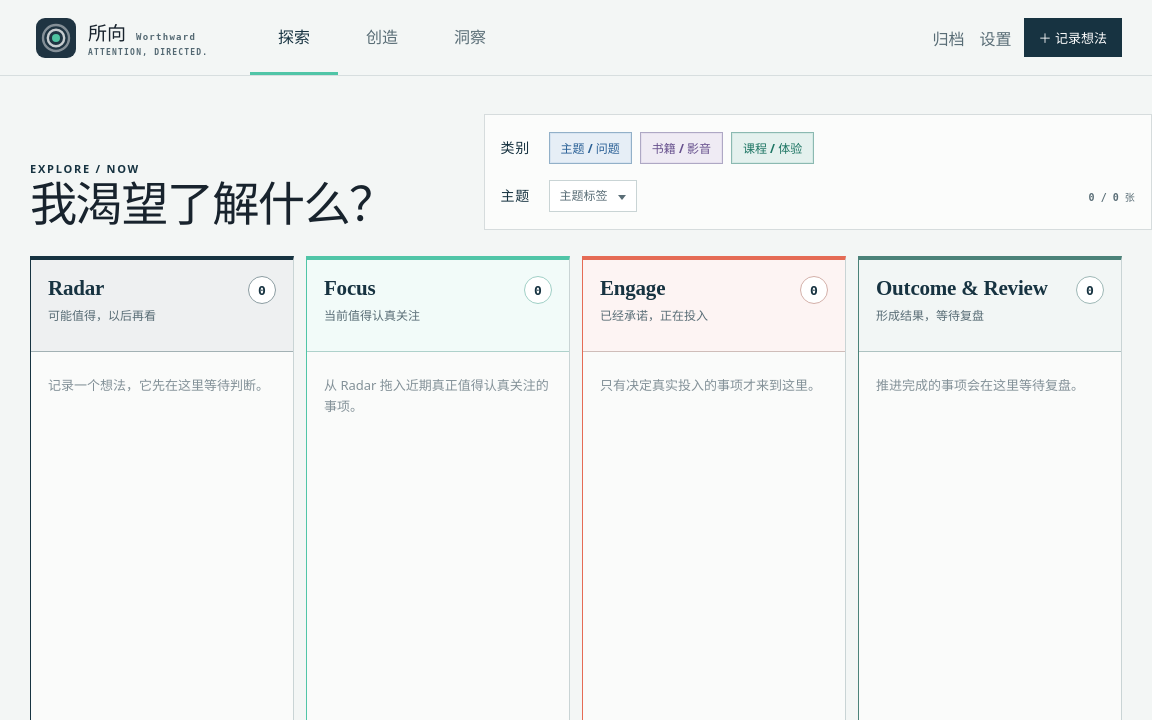
it: attention workbench interface › offers AI auto-tag in Capture and Detail topic editors
Click the button "＋ 记录想法" at (1073, 38), box [1024,18,1122,57]
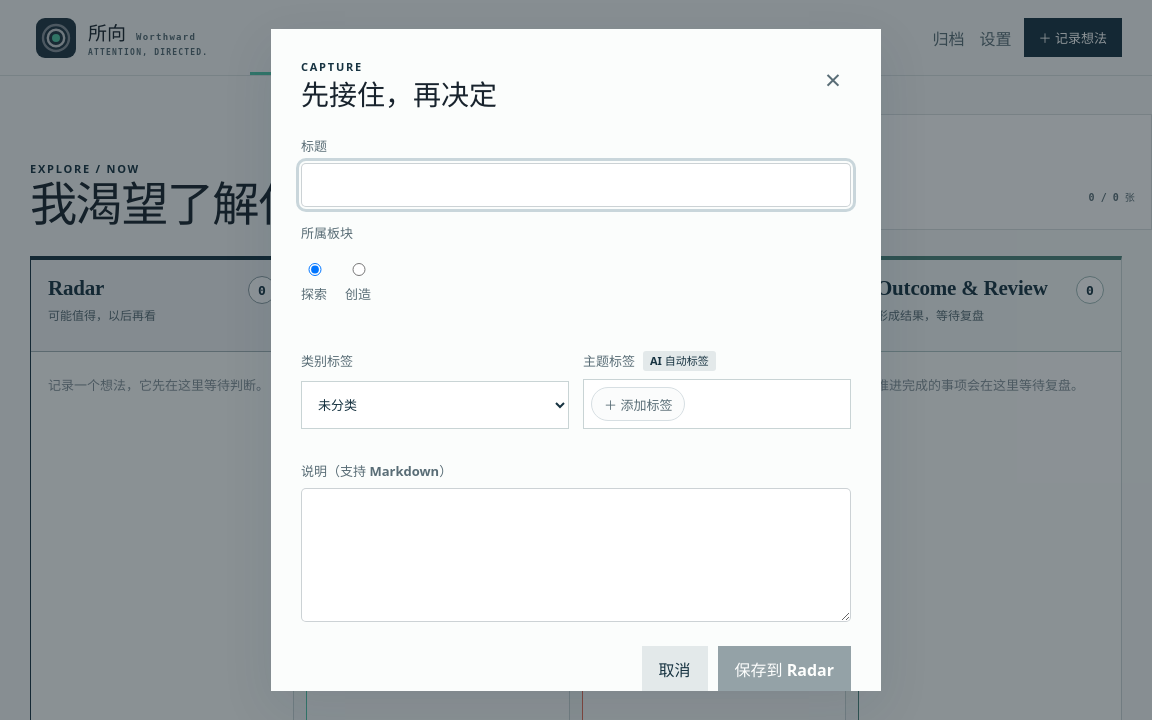
Expected: the button "AI 自动标签" is shown, [643,351,716,371]
Type "接入自动标签" into the field labelled "标题" at (576, 185), box [301,163,851,207]
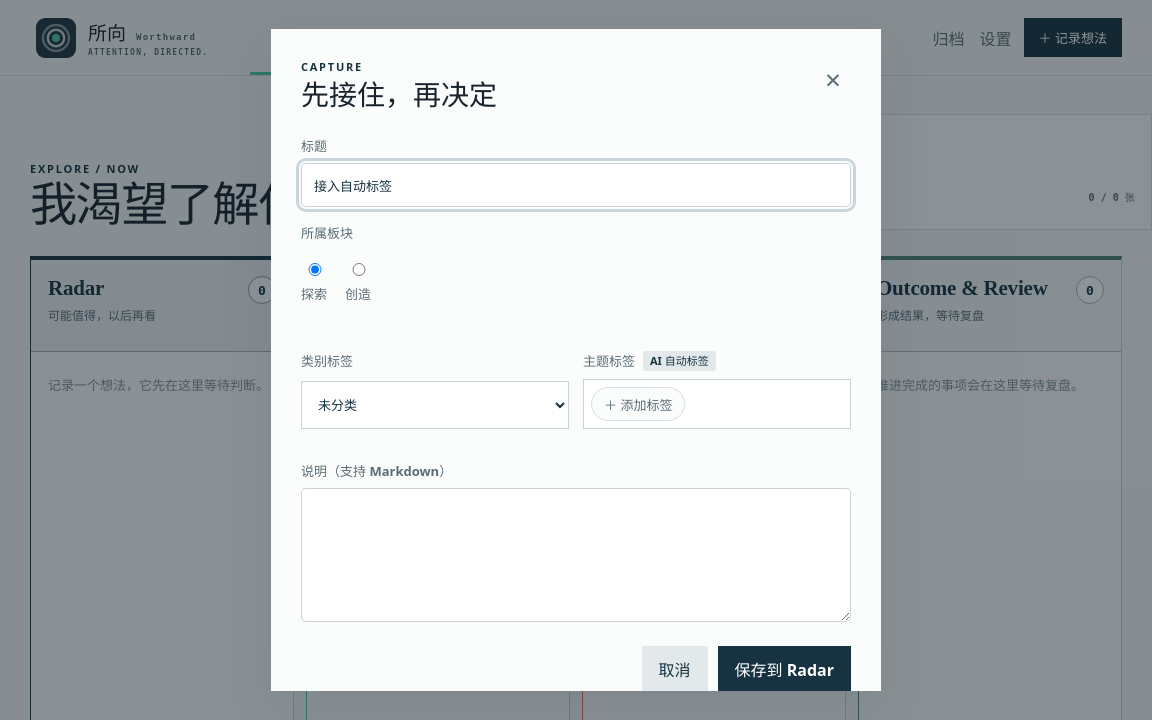
Click the button "保存到 Radar" at (784, 669), box [718,646,851,692]
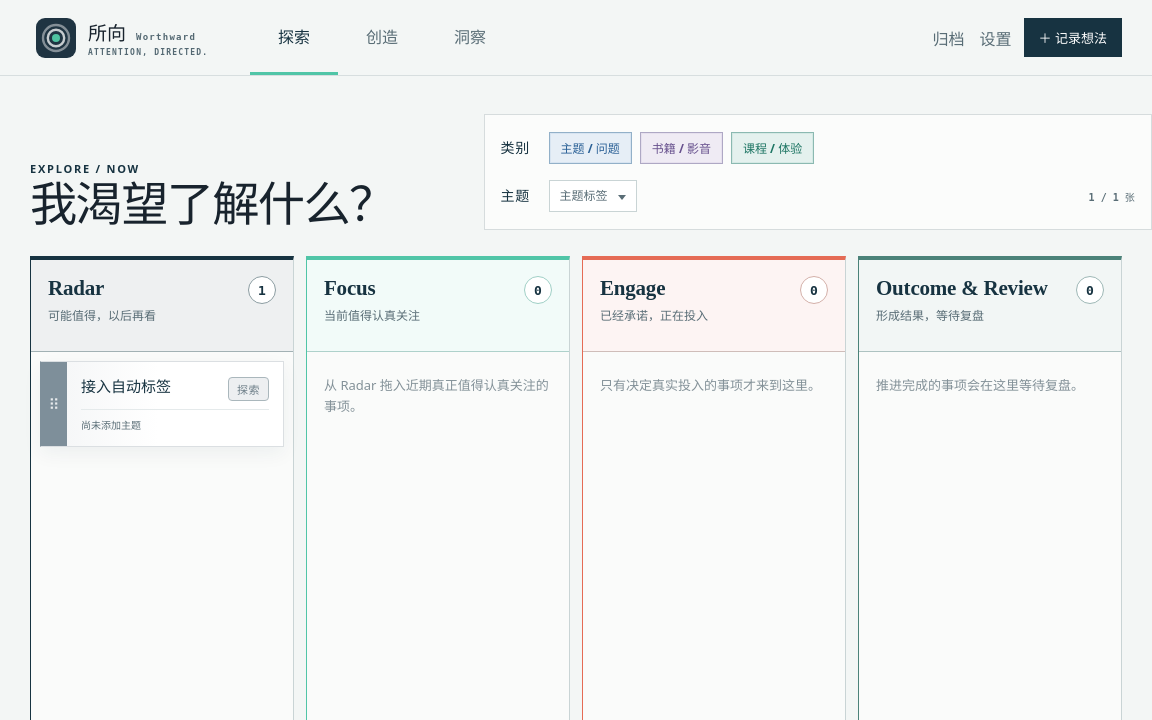
Click the button with aria-label "打开卡片：接入自动标签" at (175, 404), box [67,362,283,446]
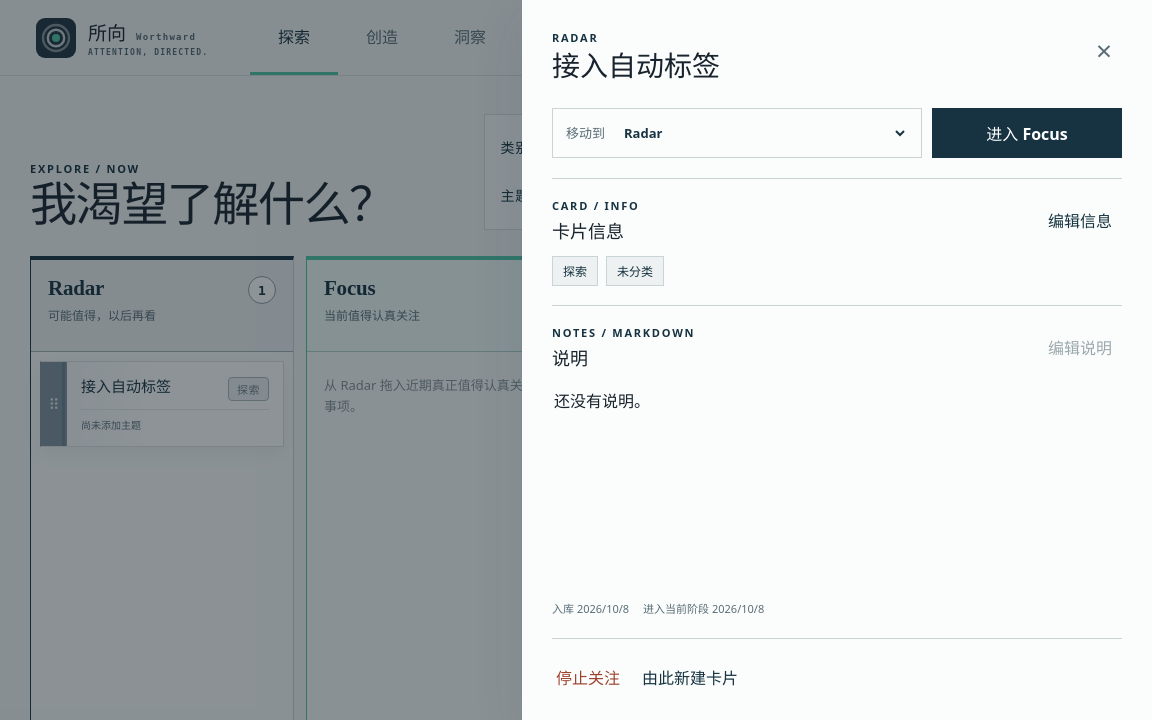
Click the button "编辑信息" at (1080, 220), box [1038,201,1122,239]
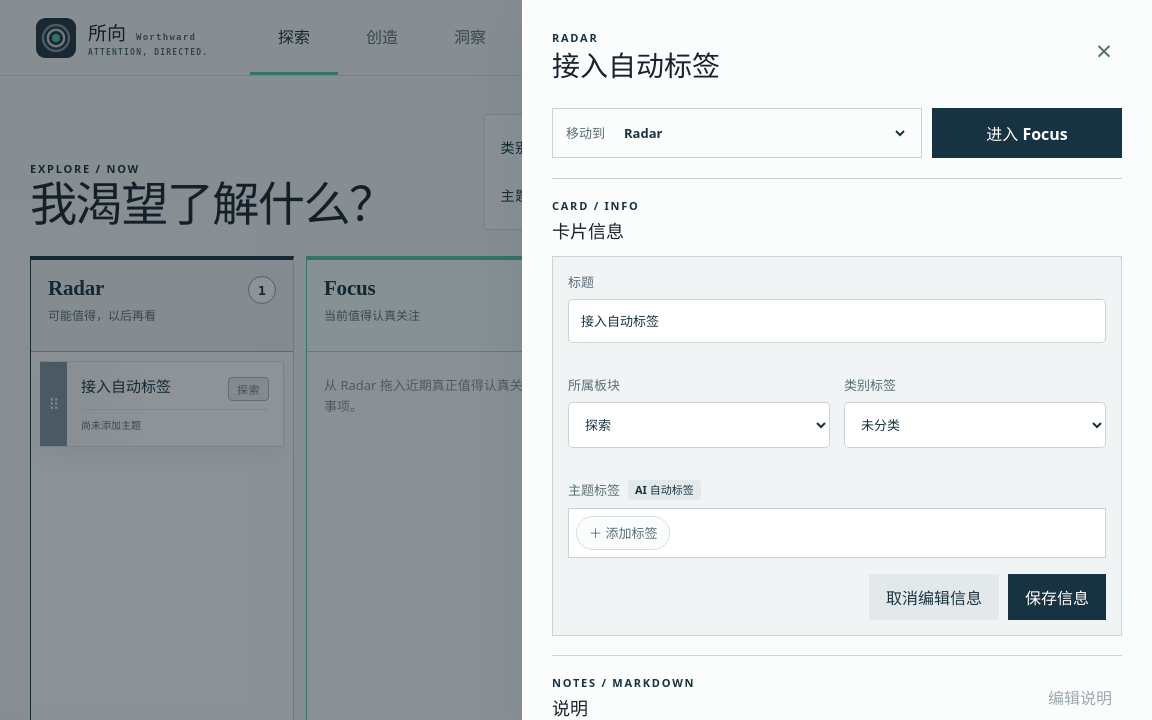
Expected: the button "AI 自动标签" is shown, [628,480,701,500]
